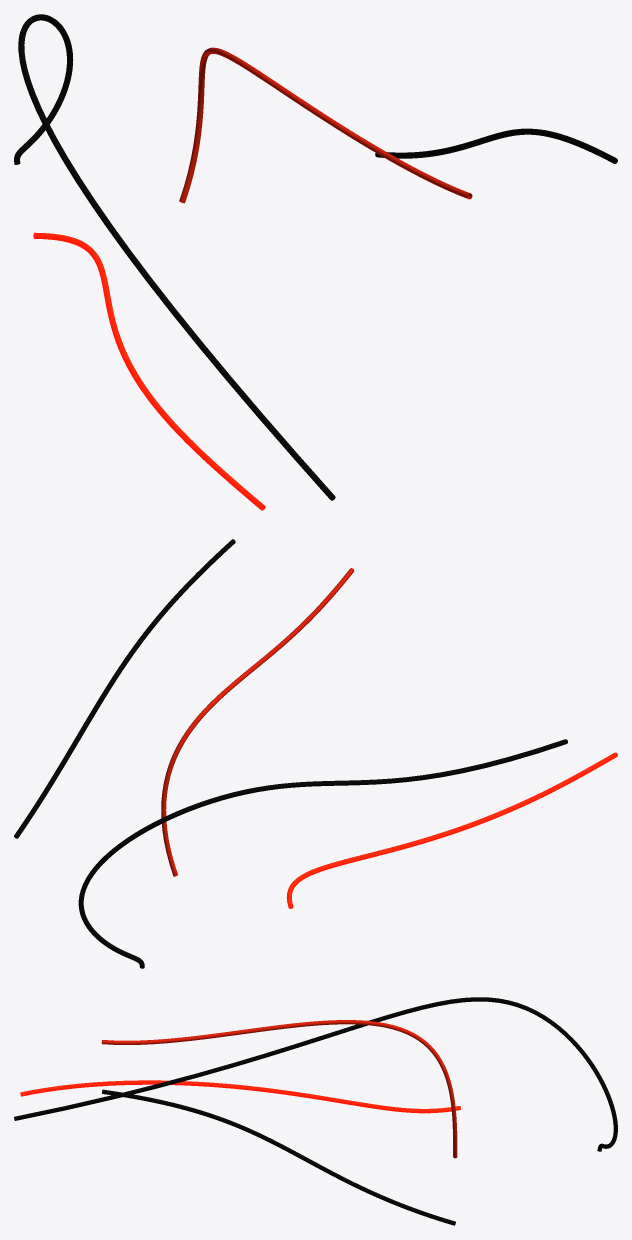
File: Wires.fbx
3 views of the same model, one above another, from view 1: azimuth 30°, elevation 25°; view 2: azimuth 150°, elevation 25°; view 3: azimuth 270°, elevation 25° (orthographic). The views are drawn at different scales.
Visible parts, largest first — view 1: NurbsPath.003, NurbsPath.002, NurbsPath.005, NurbsPath.004; view 2: NurbsPath.003, NurbsPath.005, NurbsPath.002, NurbsPath.004; view 3: NurbsPath.003, NurbsPath.002, NurbsPath.005, NurbsPath.004.
Part boxes in pixels (x1,y1,x2,y2): NurbsPath.003: (14, 14, 335, 500); NurbsPath.002: (179, 47, 472, 203); NurbsPath.005: (33, 232, 265, 510); NurbsPath.004: (375, 128, 617, 163); NurbsPath.003: (78, 739, 567, 968); NurbsPath.005: (286, 752, 617, 908); NurbsPath.002: (161, 568, 354, 876); NurbsPath.004: (14, 539, 235, 838); NurbsPath.003: (14, 997, 617, 1151); NurbsPath.002: (101, 1020, 457, 1158); NurbsPath.005: (20, 1080, 460, 1113); NurbsPath.004: (102, 1089, 455, 1225).
Bounding box in the file's own units: 162 × 78.01 × 276.
